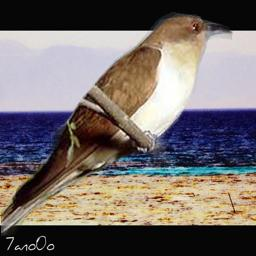Cuckoo: (1, 12, 233, 236)
